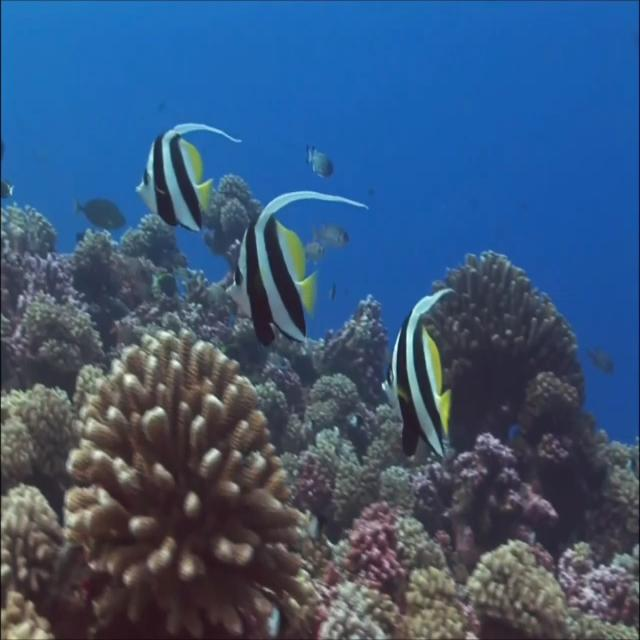Bannerfish: (229, 190, 368, 347), (380, 288, 459, 460), (137, 119, 240, 231)
